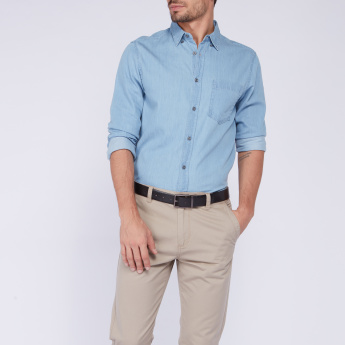F_belt: (128, 180, 234, 209)
F_shirt: (107, 24, 269, 206)
